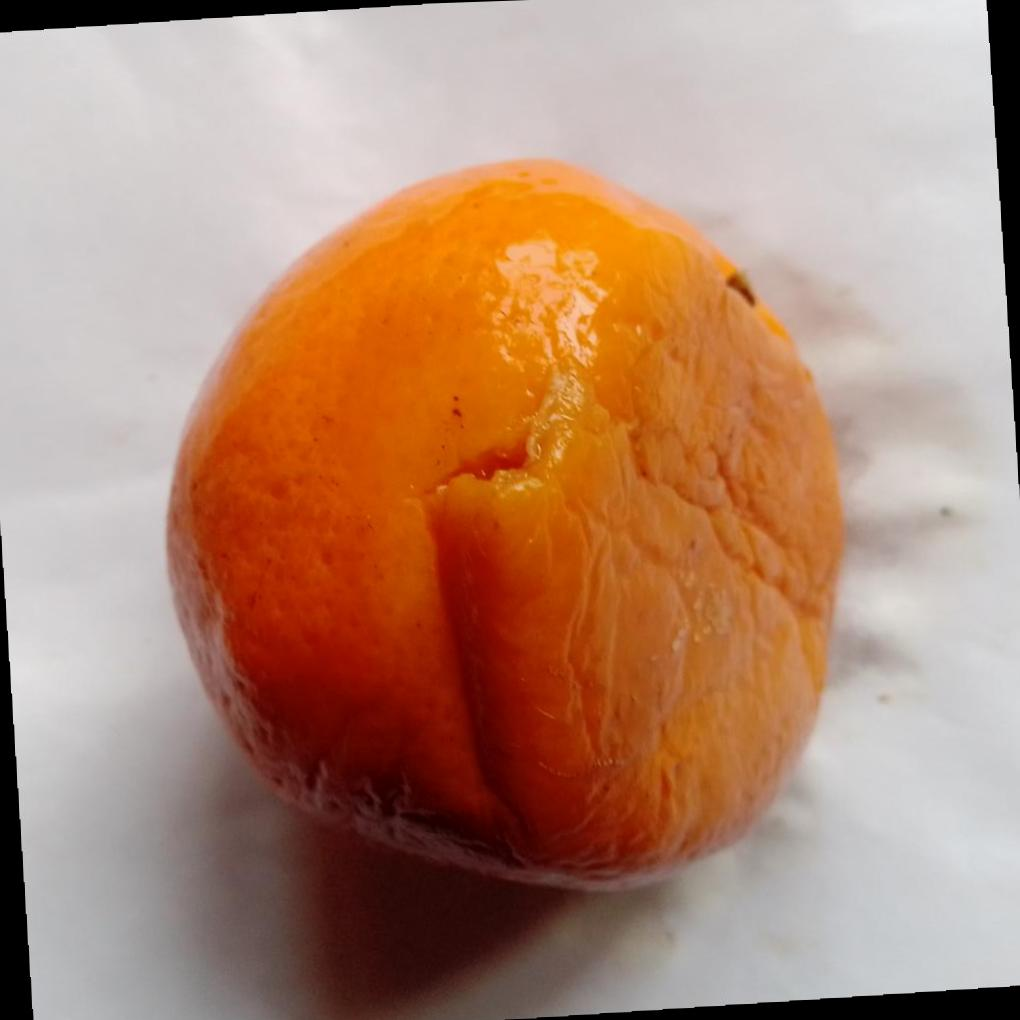FreshOrange: (166, 154, 849, 890)
